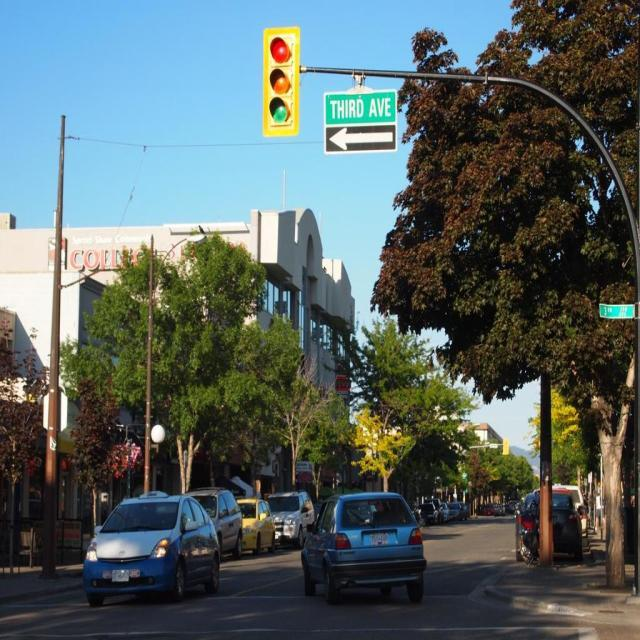traffic light: (262, 27, 299, 135)
